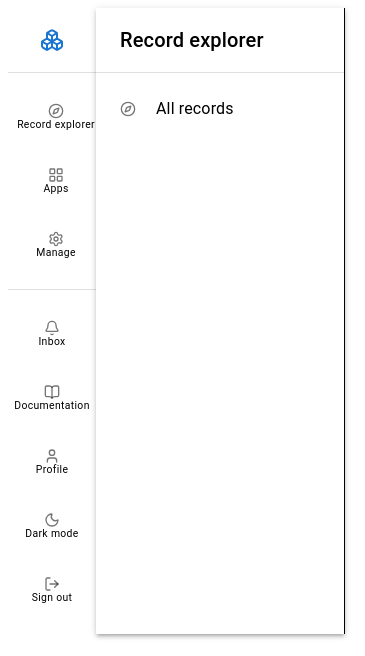
Test case: SideNavigation › keeps compact Explore and Manage panels mutually exclusive
The width and height of the screenshot is (365, 656).
Click the link "Manage" at point(56, 245), box [36,231,76,259]
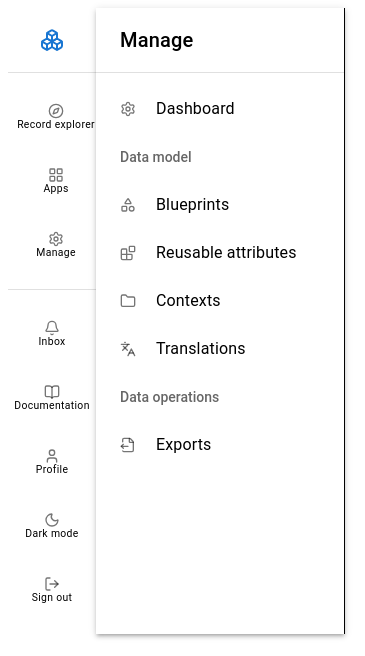
Click the link "Record explorer" at point(56, 117), box [17,103,95,131]
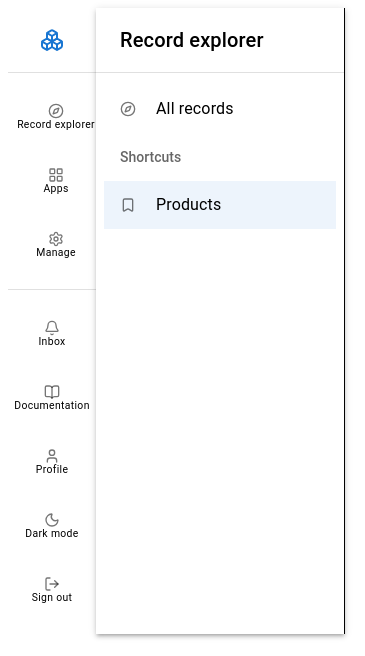
Expected: the navigation bar "Record explorer All records Shortcuts Products" is shown
